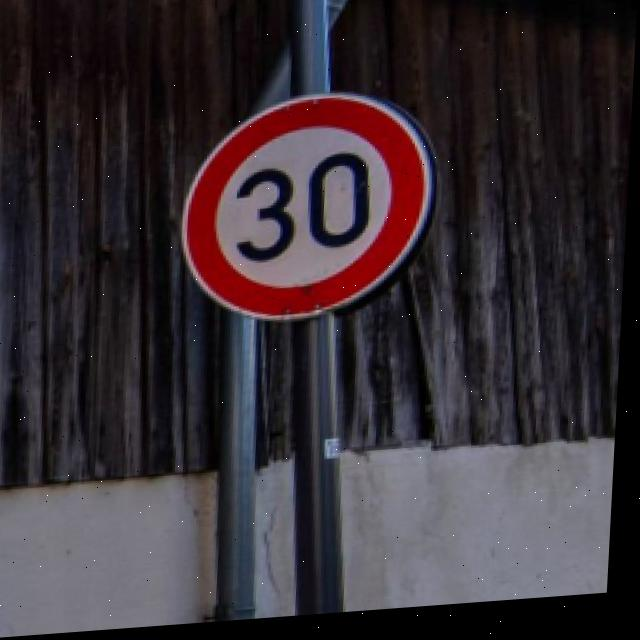Speed limit 30: (176, 88, 447, 335)
